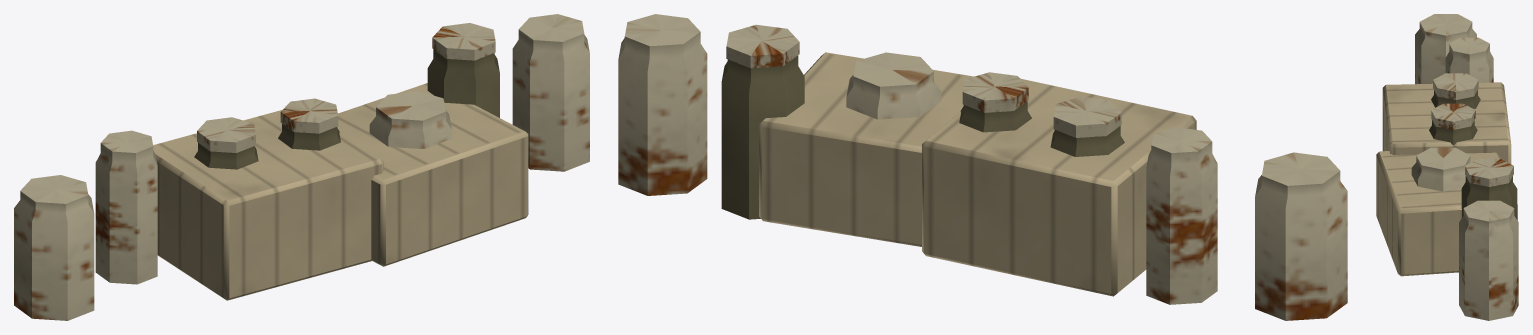
File: Jars_Shelf.fbx
3 views of the same model, side by side, from view 1: azimuth 30°, elevation 25°; view 2: azimuth 150°, elevation 25°; view 3: azimuth 270°, elevation 25° (orthographic). The views are drawn at different scales.
Visible parts, largest first — view 1: Jars_Shelf; view 2: Jars_Shelf; view 3: Jars_Shelf.
Boxes of the visible parts, left/top/right/bottom form: Jars_Shelf: left=14, top=14, right=589, bottom=320; Jars_Shelf: left=618, top=14, right=1347, bottom=320; Jars_Shelf: left=1376, top=14, right=1518, bottom=320.
Size of the model in its own units: 0.8621 by 0.1948 by 0.235.
